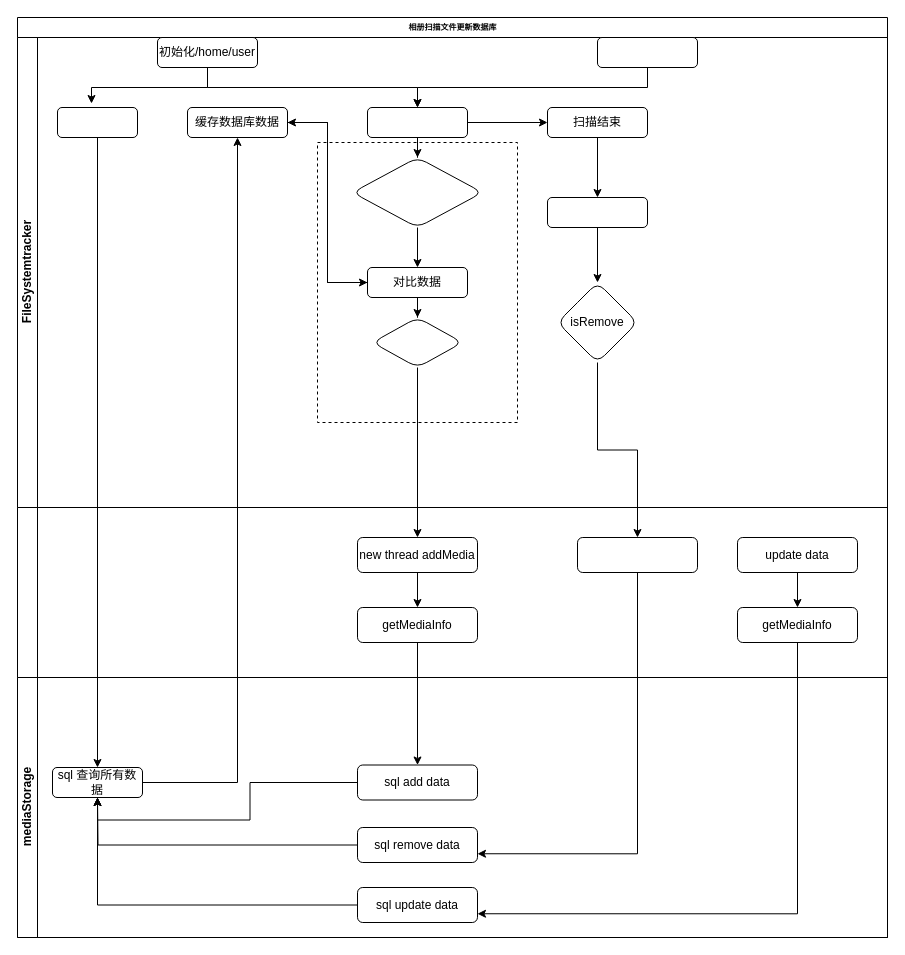
The diagram is 905 pixels wide and 955 high, and some of its shapes have lost their labels. The shapes that lost their labels are listed below. From the top down, each one's box as (x1, y1, x2, y2) in pixels, then its label:
(596, 36, 698, 68): 文件监听文件变化
(56, 106, 138, 138): emit 获取数据库数据
(366, 106, 468, 138): 扫描文件夹
(352, 156, 482, 228): isPhoto || isVideo
(546, 196, 648, 228): 对比扫描文件和数据库缓存
(372, 316, 462, 368): !isExist
(576, 536, 698, 572): remove data
(16, 506, 888, 678): thread 获取图片和视频信息
